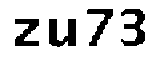3: (119, 8, 149, 50)
7: (84, 5, 113, 49)
u: (46, 17, 79, 49)
z: (12, 15, 43, 50)
